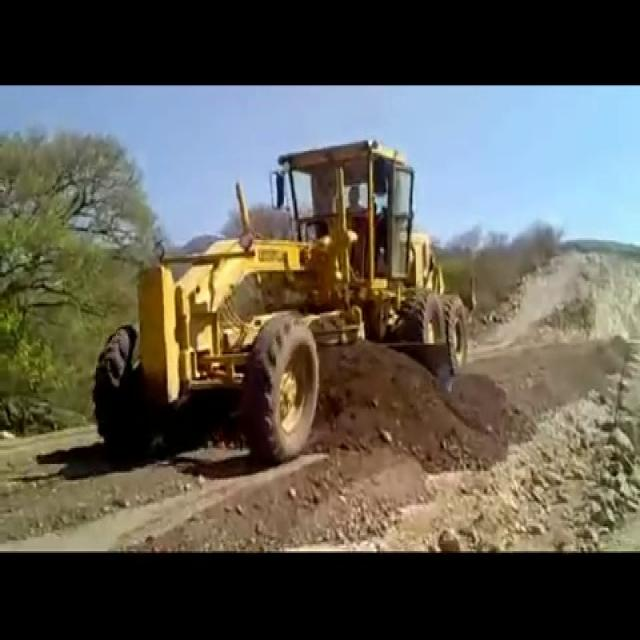buldozerpayloadergrader: (93, 140, 467, 457)
